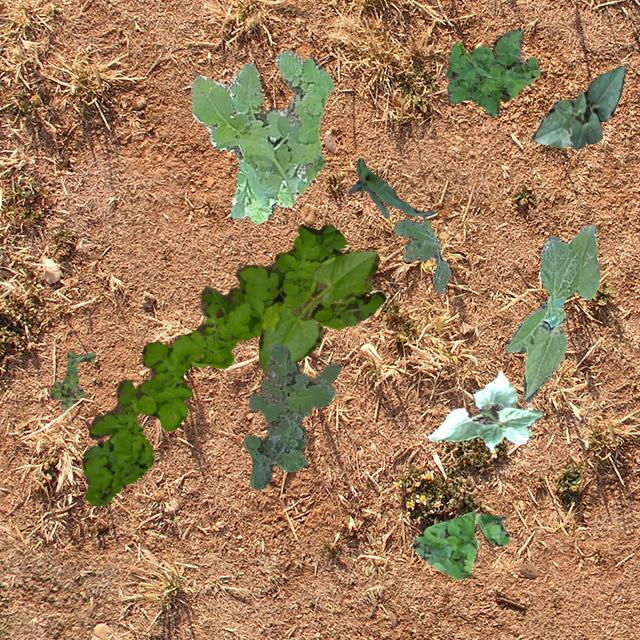crop: (504, 224, 598, 402), (258, 250, 378, 376), (426, 370, 542, 450), (530, 64, 624, 148), (348, 156, 432, 218)
weed: (82, 224, 384, 506), (190, 50, 332, 224), (242, 342, 340, 488), (444, 28, 538, 116), (412, 511, 508, 578), (392, 215, 450, 292), (49, 349, 94, 408)
